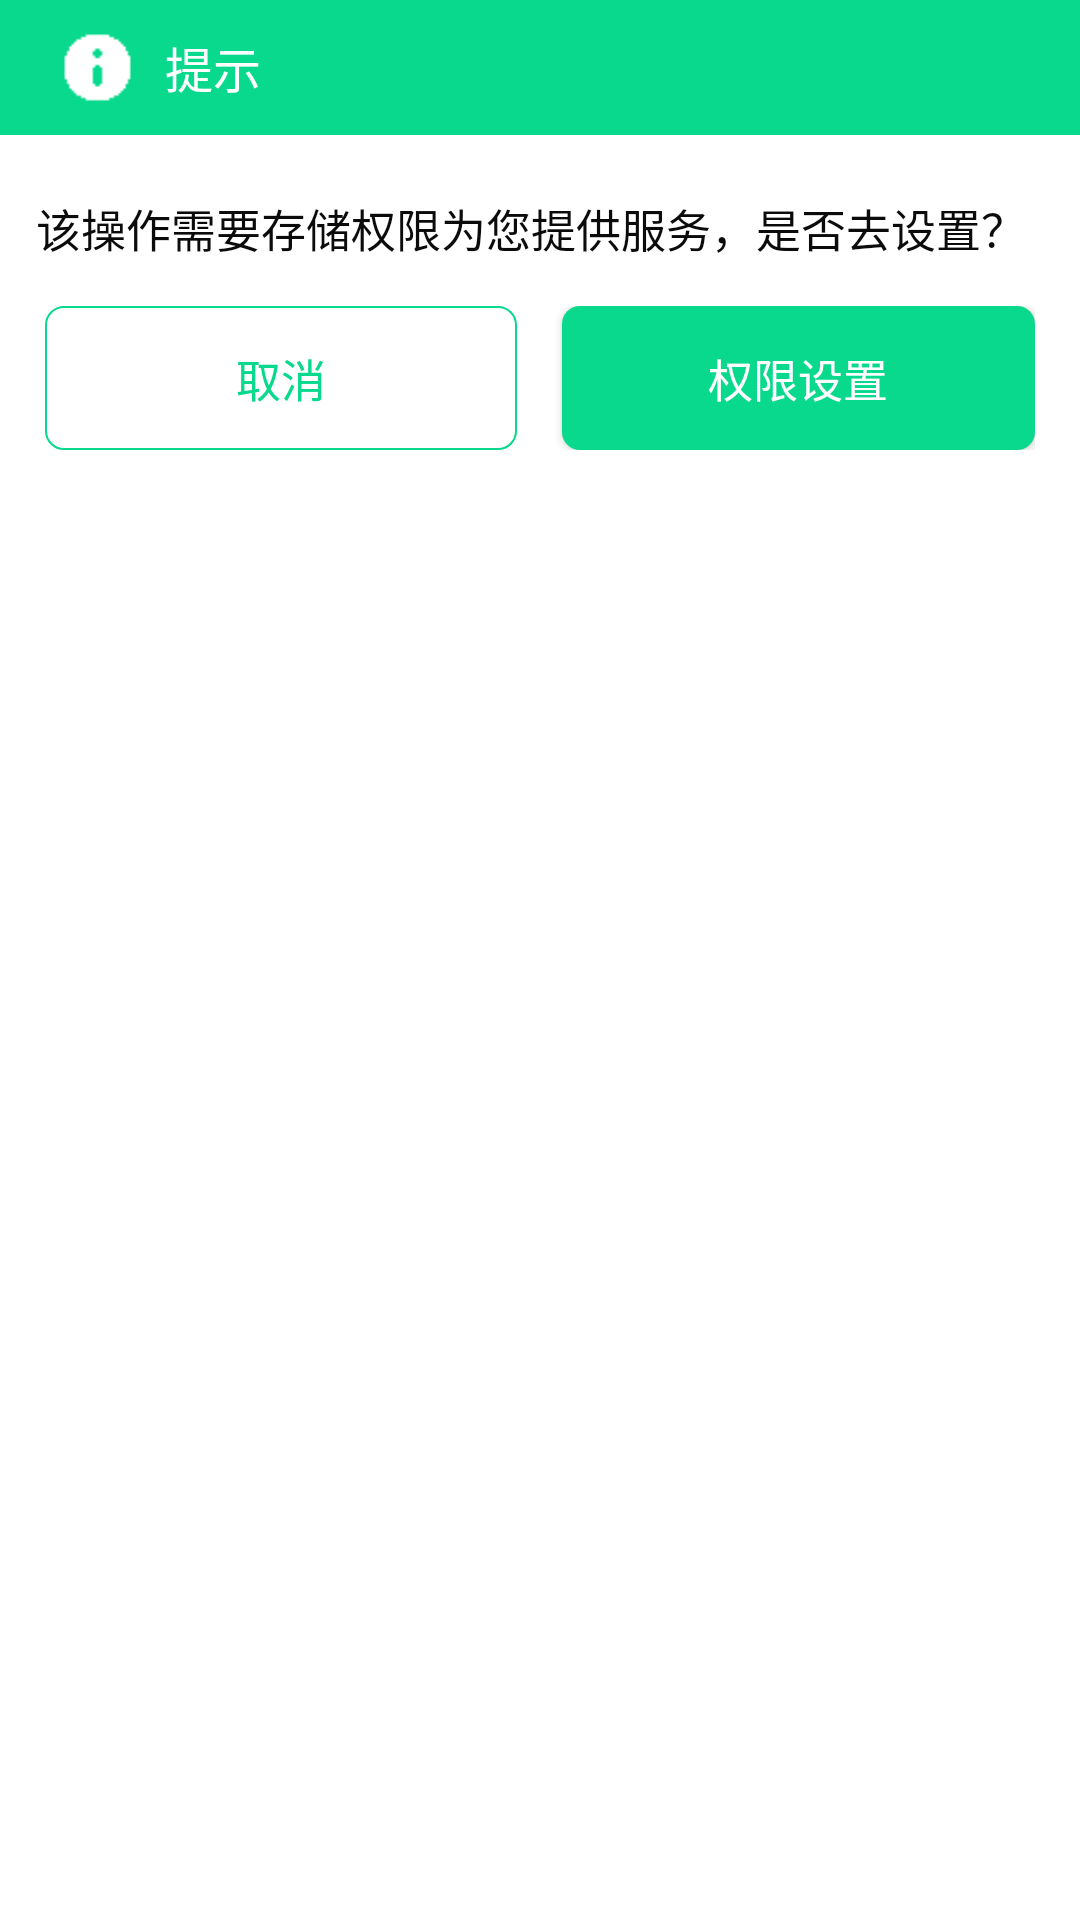

Locate icon controls on the screen. Image size 1080 × 1920, boxes as bbox=(x1, y1, x2, y2).
hint: bbox=(64, 34, 131, 101)
